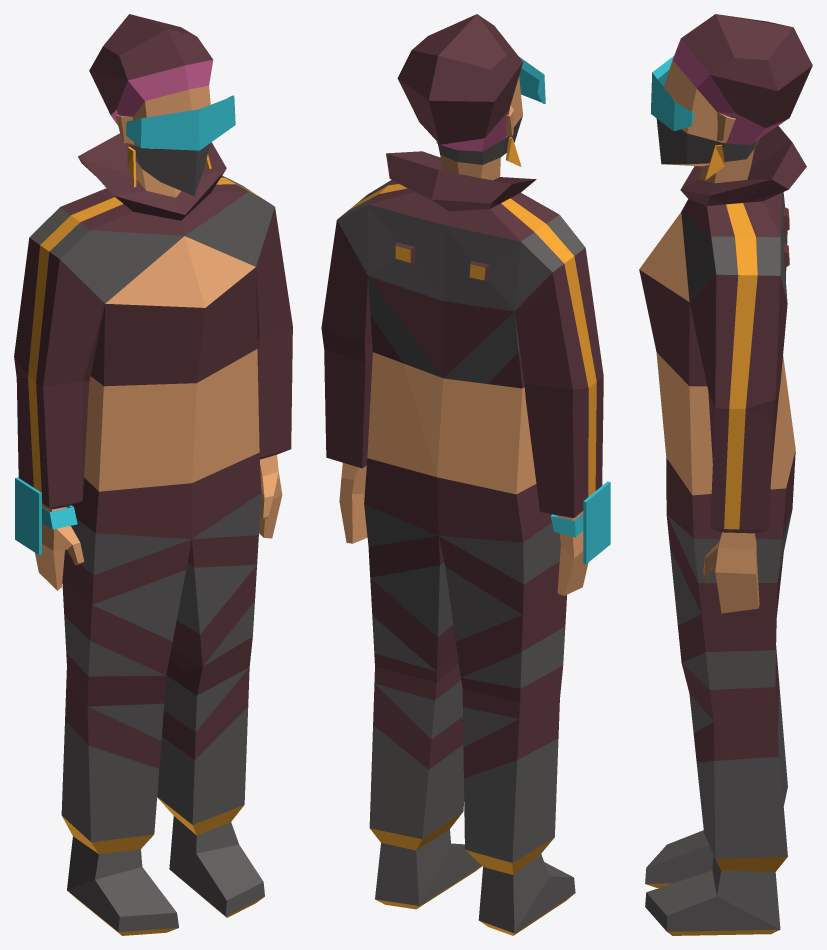
The model's file is woman-scifi-goggles.fbx.
3 renders of one model, left to right at view 1: azimuth 30°, elevation 25°; view 2: azimuth 150°, elevation 25°; view 3: azimuth 270°, elevation 25°, orthographic.
Parts seen in each view (by area): view 1: woman-scifi-goggles; view 2: woman-scifi-goggles; view 3: woman-scifi-goggles.
Part boxes in pixels (x1,y1,x2,y2): woman-scifi-goggles: [14, 14, 292, 935]; woman-scifi-goggles: [321, 14, 610, 935]; woman-scifi-goggles: [639, 14, 812, 935].
Bounding box in the file's own units: 0.5703 × 1.87 × 0.3308.
